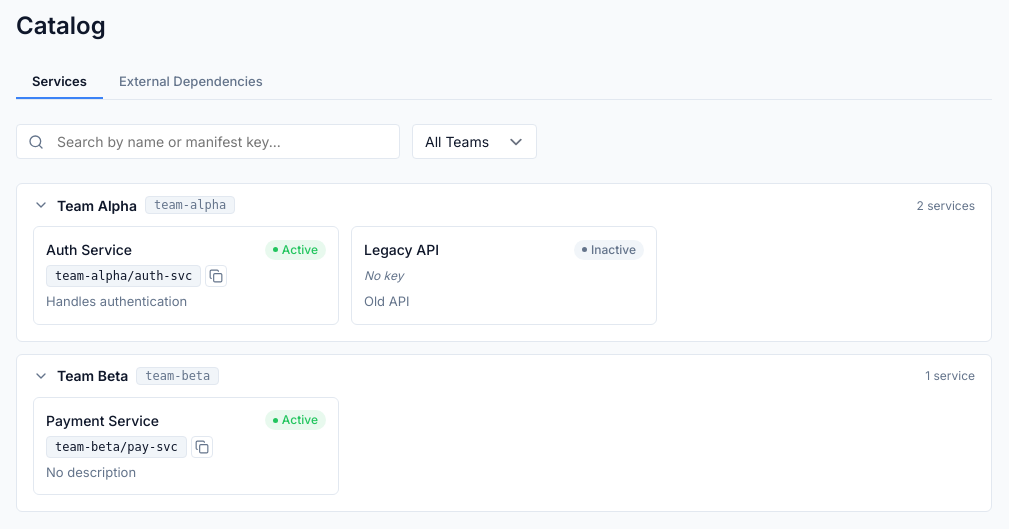
Test: ServiceCatalog › should filter by team
Expected: the text "Auth Service" is shown, [46,239,132,260]
Select "Team Beta" in the dropdown named "Filter by team" at (474, 142), box [412,124,537,159]
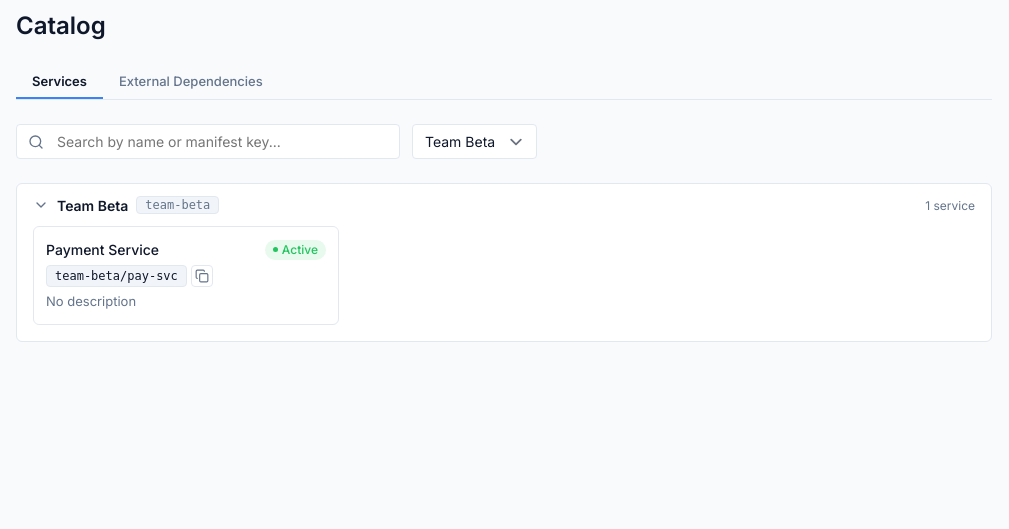
Expected: the text "Payment Service" is shown, [46,239,159,260]
Now the text "Auth Service" is gone
Now the text "Legacy API" is gone
